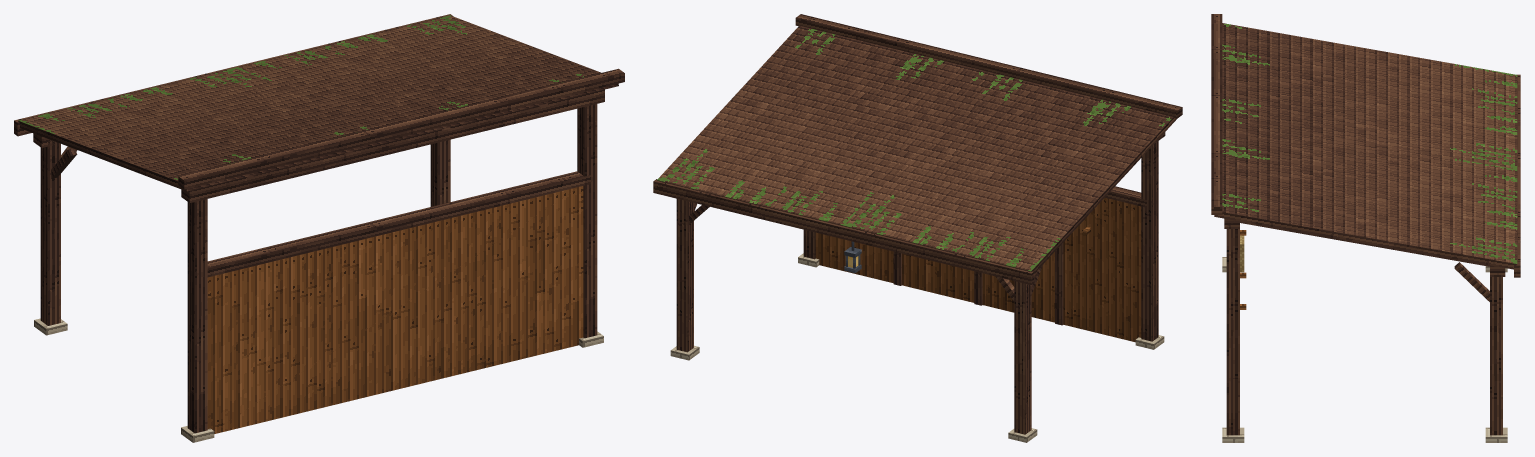
The model's file is workshop_shelter_timber.glb.
3 views of the same model, side by side, from view 1: azimuth 30°, elevation 25°; view 2: azimuth 150°, elevation 25°; view 3: azimuth 270°, elevation 25° (orthographic). The views are drawn at different scales.
Parts seen in each view (by area): view 1: wall_planks, roof_slab_left, roof_slab_right, roof_ridge, wall_cap, back_beam, post_back_left, post_back_right, post_front_left, post_front_right, roof_fascia; view 2: roof_slab_left, roof_slab_right, wall_planks, roof_fascia, roof_ridge, post_back_left, post_front_left, post_front_right, wall_batten_1, wall_cap; view 3: roof_slab_right, roof_slab_left, post_back_right, roof_ridge, post_front_right, roof_fascia, side_beam_right, knee_side_right.
Boxes of the visible parts, x1,y1,x2,y2 form: wall_planks: [207, 186, 583, 433]; roof_slab_left: [18, 68, 402, 191]; roof_slab_right: [235, 15, 618, 138]; roof_ridge: [178, 68, 624, 189]; wall_cap: [207, 171, 590, 277]; back_beam: [181, 89, 604, 202]; post_back_left: [187, 199, 207, 433]; post_back_right: [577, 104, 597, 338]; post_front_left: [40, 139, 60, 325]; post_front_right: [430, 139, 450, 206]; roof_fascia: [14, 14, 453, 136]; roof_slab_left: [844, 71, 1176, 272]; roof_slab_right: [657, 25, 985, 225]; wall_planks: [815, 197, 1141, 342]; roof_fascia: [653, 179, 1034, 284]; roof_ridge: [795, 14, 1182, 118]; post_back_left: [1141, 141, 1158, 341]; post_front_left: [1014, 281, 1031, 434]; post_front_right: [676, 198, 693, 352]; wall_batten_1: [1055, 243, 1063, 325]; wall_cap: [1105, 186, 1146, 207]; roof_slab_right: [1214, 117, 1517, 269]; roof_slab_left: [1222, 23, 1517, 169]; post_back_right: [1226, 229, 1239, 435]; roof_ridge: [1211, 14, 1222, 214]; post_front_right: [1490, 277, 1502, 435]; roof_fascia: [1514, 74, 1520, 277]; side_beam_right: [1240, 221, 1489, 266]; knee_side_right: [1454, 262, 1489, 301].
Size of the model in its own units: 6.5 by 3.81 by 4.41.
1 material, 1 textured.
